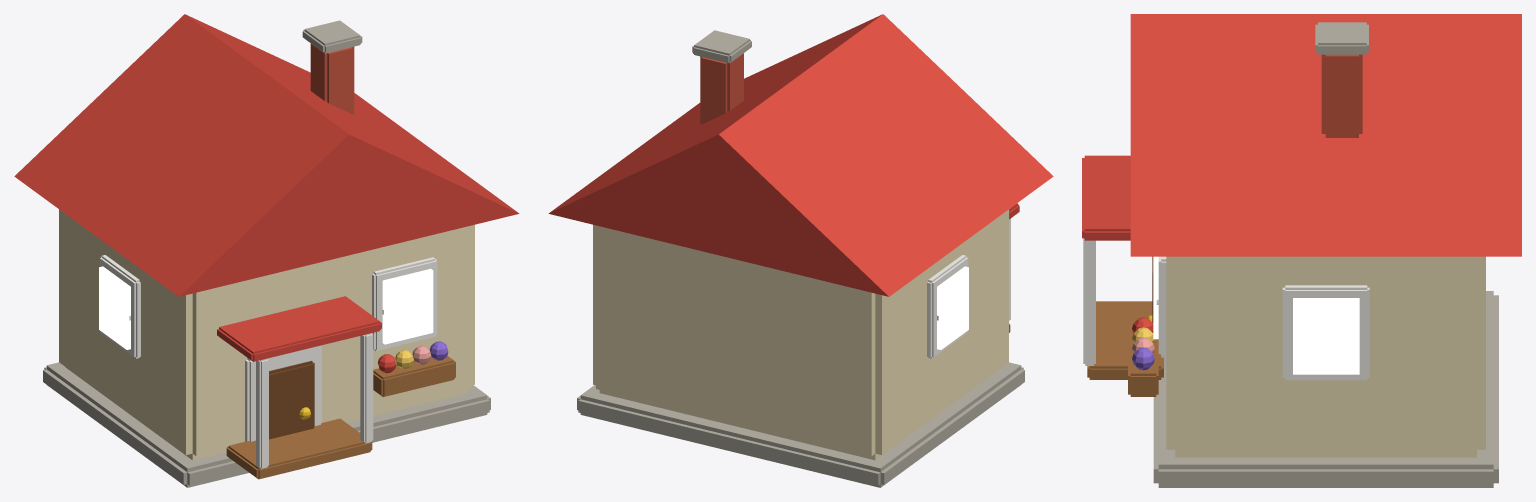
File: house_red.glb
3 renders of one model, left to right at view 1: azimuth 30°, elevation 25°; view 2: azimuth 150°, elevation 25°; view 3: azimuth 270°, elevation 25°, orthographic. The views are drawn at different scales.
Parts seen in each view (by area): view 1: house_red; view 2: house_red; view 3: house_red.
Part boxes in pixels (left/top/right/bottom): house_red: left=14, top=14, right=519, bottom=487; house_red: left=548, top=14, right=1053, bottom=487; house_red: left=1082, top=14, right=1521, bottom=487.
Bounding box in the file's own units: 1.83 × 1.77 × 1.72.
